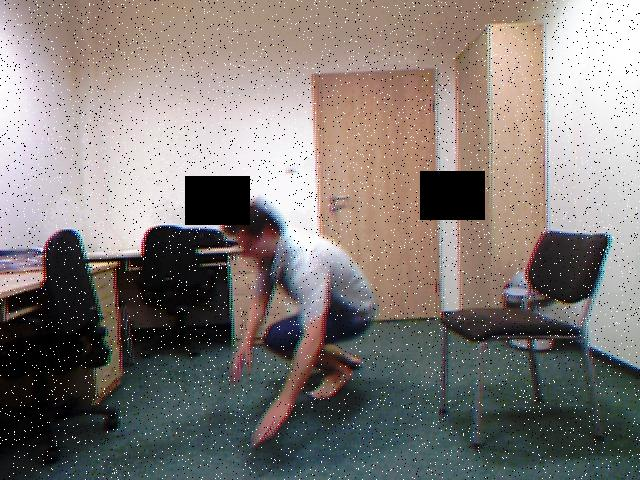near-fall: (218, 192, 380, 447)
